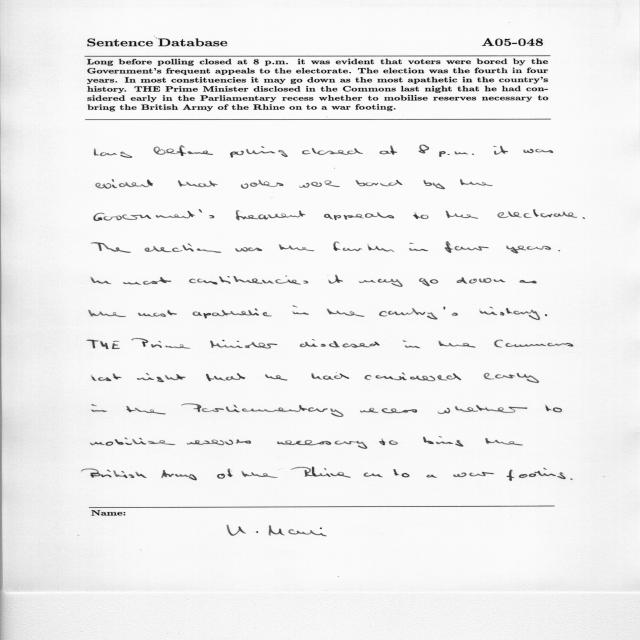word: (182, 404, 344, 417), (94, 210, 214, 221), (189, 276, 308, 285), (379, 307, 458, 320), (277, 440, 367, 449), (438, 405, 527, 414), (192, 309, 272, 319), (480, 307, 540, 320), (365, 373, 461, 381), (507, 468, 566, 481), (91, 437, 176, 446), (145, 243, 221, 253), (236, 210, 305, 221), (300, 339, 380, 348), (230, 146, 288, 158), (291, 467, 351, 478), (82, 468, 147, 478), (154, 145, 213, 156), (132, 338, 191, 349), (497, 210, 577, 218), (495, 340, 573, 348), (334, 242, 395, 252), (210, 340, 277, 349), (96, 179, 153, 189), (324, 212, 394, 220), (484, 373, 539, 383), (445, 241, 489, 253), (137, 373, 186, 382), (92, 242, 132, 253), (423, 436, 463, 447), (302, 148, 363, 155), (123, 277, 171, 285), (187, 440, 251, 446), (95, 148, 133, 158), (241, 180, 283, 189), (506, 246, 551, 254), (161, 470, 197, 480), (359, 279, 403, 287), (457, 277, 505, 284), (299, 180, 340, 188), (206, 373, 246, 381), (126, 406, 166, 414), (87, 340, 120, 349), (327, 309, 364, 317), (446, 210, 478, 219), (360, 408, 417, 413), (356, 180, 403, 186), (178, 181, 218, 188), (138, 310, 177, 317), (312, 373, 350, 380), (485, 438, 523, 445), (89, 310, 126, 317), (439, 341, 476, 348), (242, 471, 278, 478), (279, 244, 314, 251), (460, 179, 493, 186), (439, 151, 474, 157), (92, 374, 122, 381), (453, 472, 494, 477), (423, 180, 445, 189), (380, 146, 398, 155), (217, 469, 233, 479), (409, 243, 428, 251), (419, 278, 438, 286), (293, 306, 309, 315), (403, 341, 420, 349), (393, 469, 410, 477), (493, 146, 508, 155), (235, 247, 262, 252), (328, 275, 343, 284), (265, 375, 287, 381), (546, 405, 562, 413), (91, 278, 111, 284), (92, 404, 107, 412), (524, 149, 553, 153), (379, 439, 398, 445), (413, 212, 429, 219), (419, 145, 429, 153), (364, 473, 383, 477), (519, 280, 537, 283), (427, 475, 437, 478), (582, 217, 585, 219), (570, 478, 573, 480), (545, 314, 547, 316), (558, 250, 560, 251)
